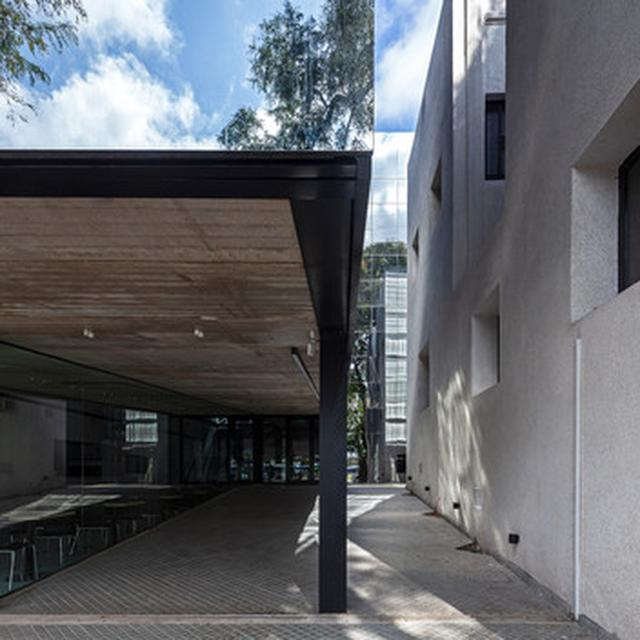building: (0, 147, 368, 609), (404, 0, 640, 640)
